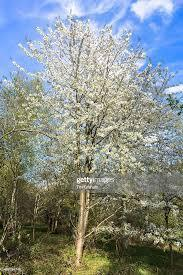tree: (8, 9, 166, 265)
